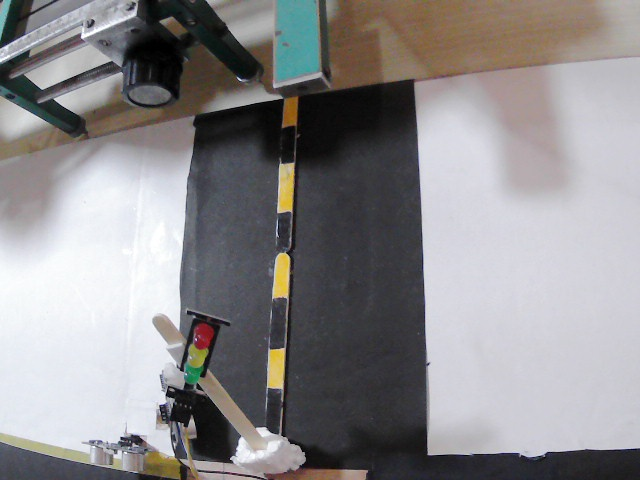black_strip: (268, 299, 291, 384), (263, 375, 284, 431), (276, 209, 292, 252), (278, 125, 295, 162)
mixed_lane: (262, 94, 302, 428)
traffic_light: (173, 315, 218, 387), (192, 312, 200, 330)
uno_breadboard: (84, 433, 146, 474), (157, 355, 184, 416)
yellow_strip: (271, 252, 292, 297), (264, 347, 288, 386), (276, 164, 295, 210), (282, 96, 296, 126)
